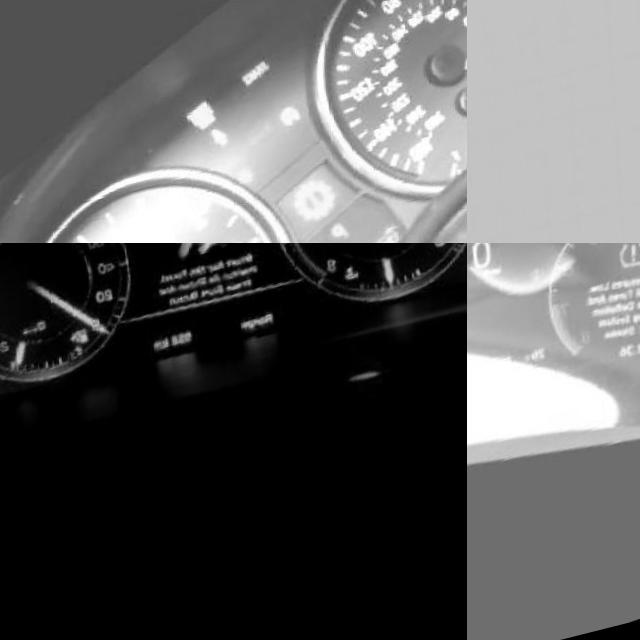Engine cooling system: (333, 287, 352, 311)
Low fuel level: (66, 341, 84, 364)
